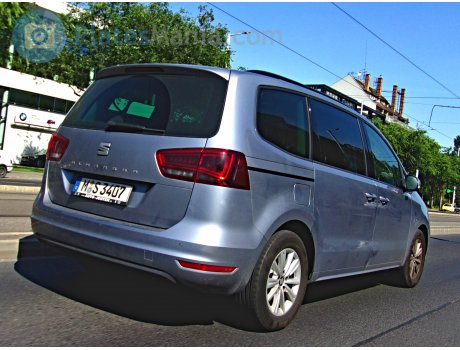License Plates: (82, 176, 126, 199)
